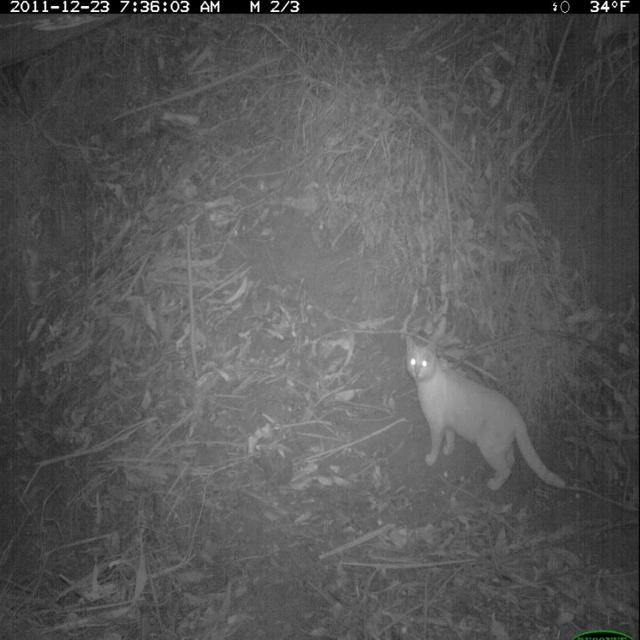cat: (404, 325, 571, 504)
